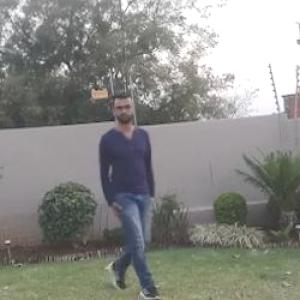follow: (84, 91, 154, 293)
